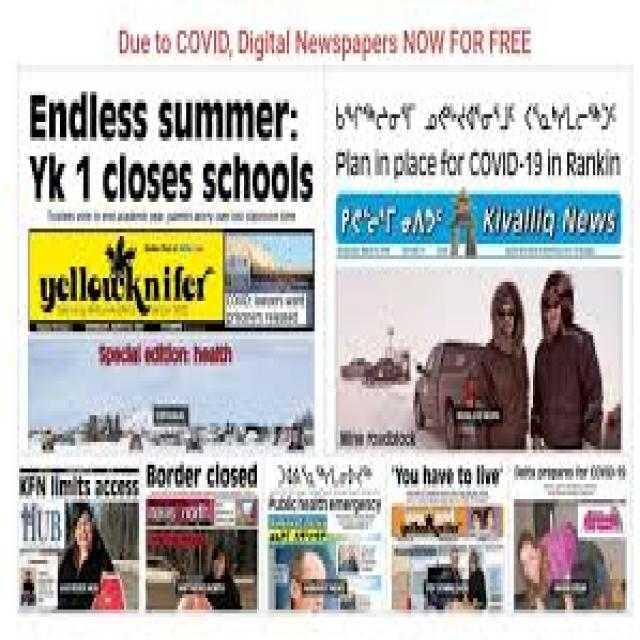paper: (16, 14, 634, 631)
